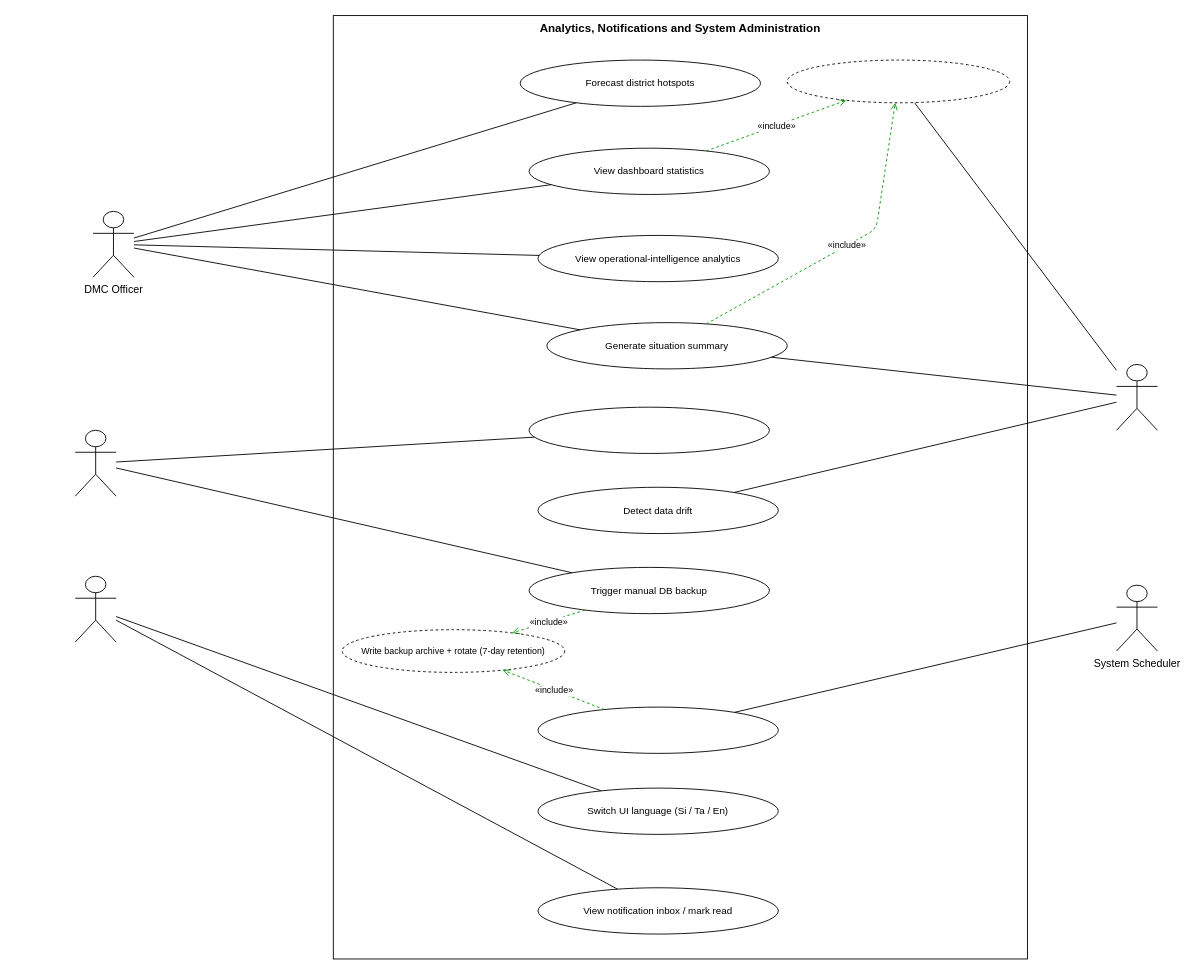
This 1195x975 diagram has some shape labels left out. The shapes that lost their labels are listed below. From the top down, each one's centre as x and y in pixels, then its label:
(x=898, y=81): Aggregate live incidents / alerts / camps / water status
(x=1136, y=397): ML Service
(x=648, y=429): View audit log
(x=95, y=462): Administrator
(x=95, y=608): Any authenticated user Citizen · Volunteer · Officer · Admin · Hospital Staff
(x=657, y=729): Run scheduled DB backup
